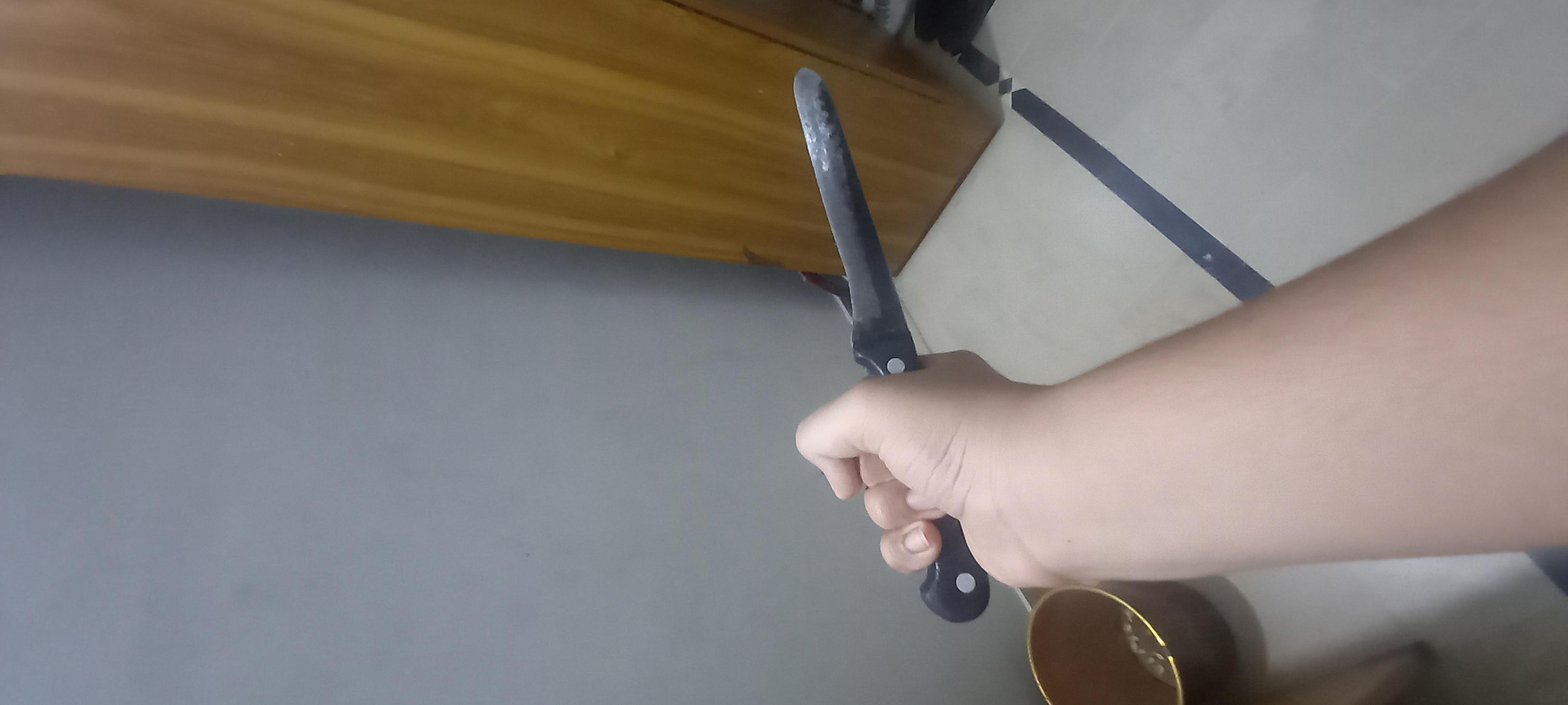knives: (182, 344, 1436, 448)
